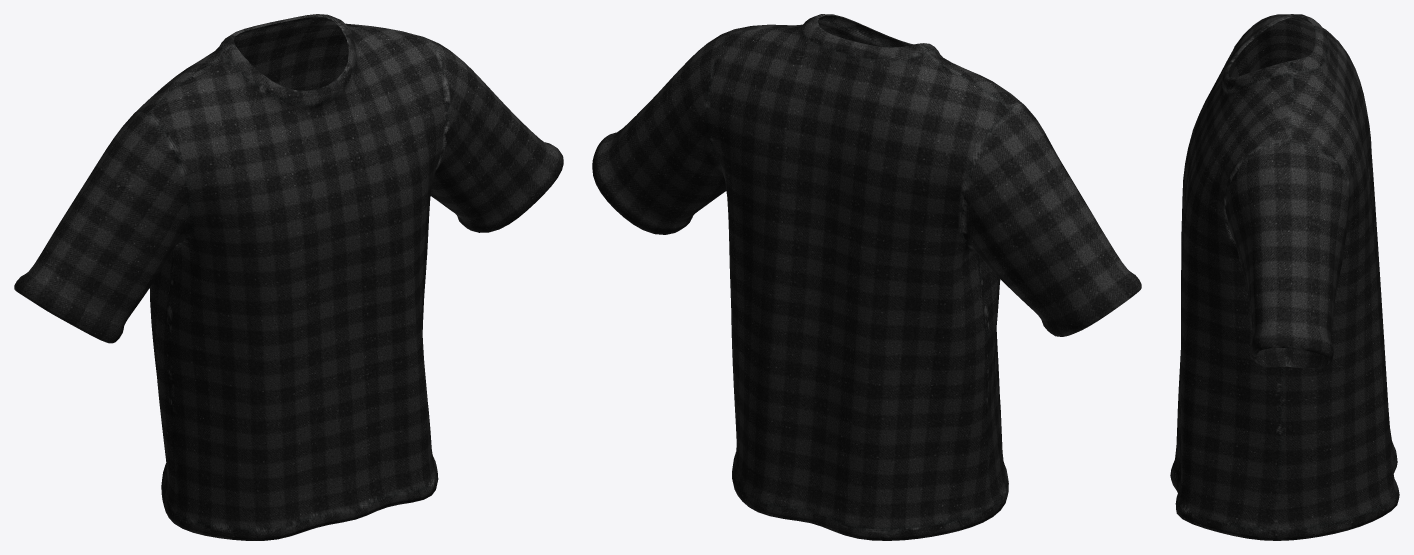
File: shirt.glb
3 renders of one model, left to right at view 1: azimuth 30°, elevation 25°; view 2: azimuth 150°, elevation 25°; view 3: azimuth 270°, elevation 25°, orthographic. The views are drawn at different scales.
Parts seen in each view (by area): view 1: Mid poly; view 2: Mid poly; view 3: Mid poly.
Part boxes in pixels (<box>): Mid poly: <box>14,14,563,540</box>; Mid poly: <box>592,14,1141,540</box>; Mid poly: <box>1170,14,1399,540</box>.
Size of the model in its own units: 0.7857 by 0.6466 by 0.2977.
Materials: 1 (1 with a texture image).
